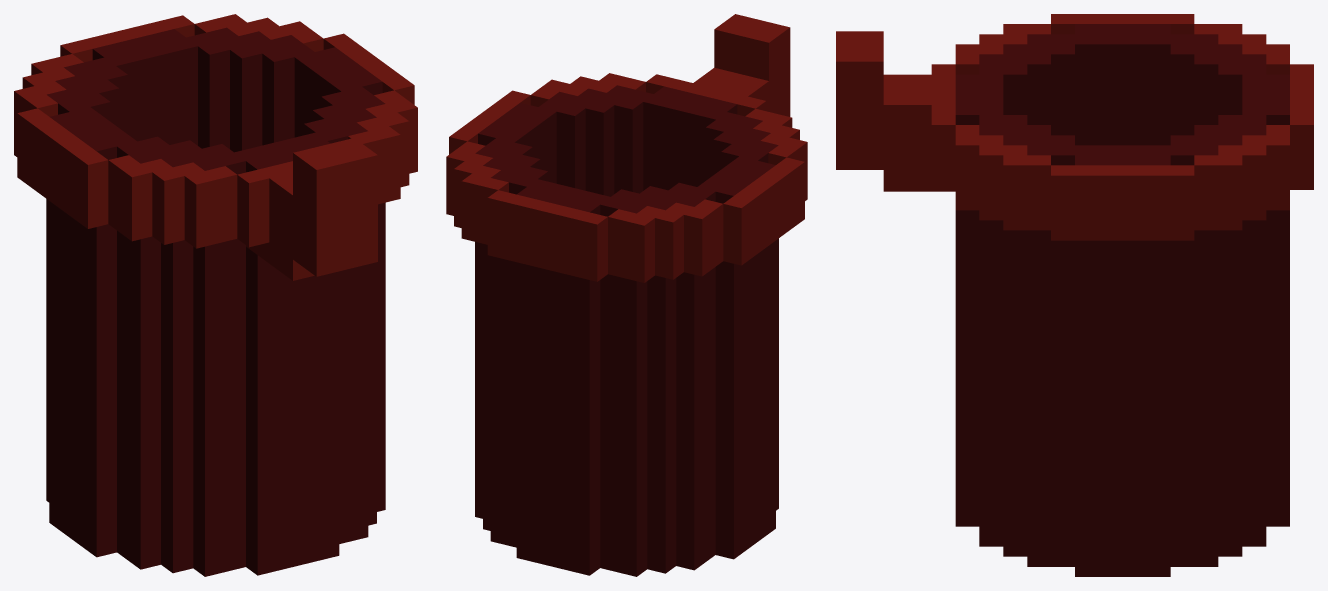
The model's file is cloth_masterwork_boot_shin_L.glb.
3 views of the same model, side by side, from view 1: azimuth 30°, elevation 25°; view 2: azimuth 150°, elevation 25°; view 3: azimuth 270°, elevation 25° (orthographic). The views are drawn at different scales.
Parts seen in each view (by area): view 1: cloth_masterwork_boot_shin_L; view 2: cloth_masterwork_boot_shin_L; view 3: cloth_masterwork_boot_shin_L.
Boxes of the visible parts, box(x1,y1,x2,y2) form: cloth_masterwork_boot_shin_L: box(14, 14, 417, 576); cloth_masterwork_boot_shin_L: box(446, 14, 807, 576); cloth_masterwork_boot_shin_L: box(836, 14, 1313, 576).
Size of the model in its own units: 0.192 by 0.252 by 0.24.
